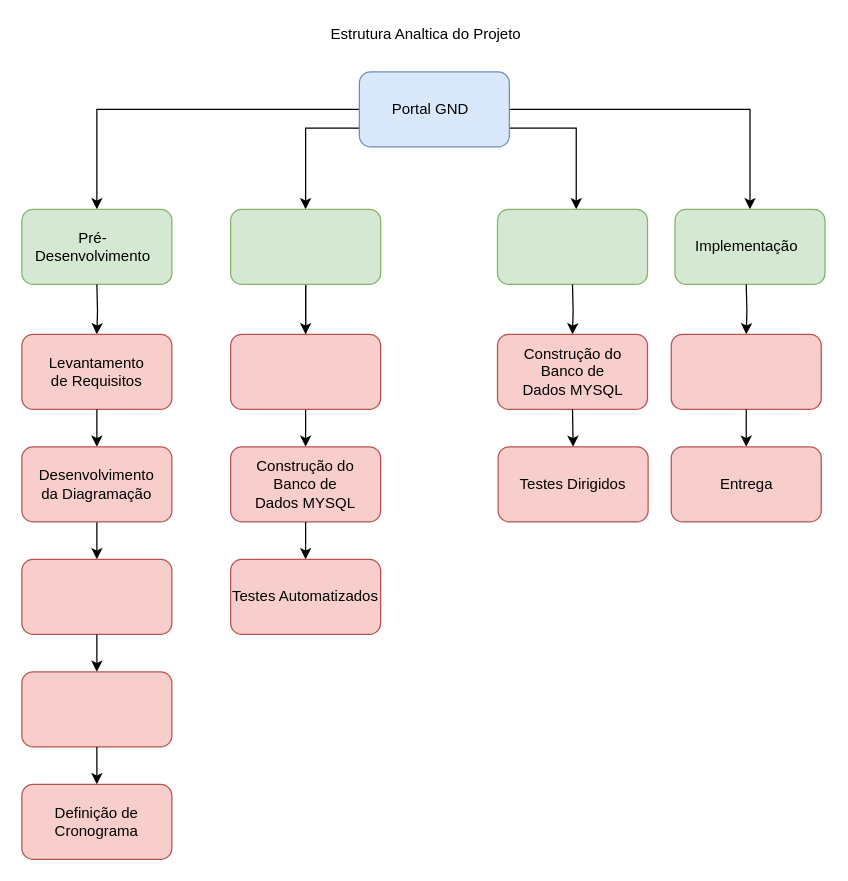
Image size: 848x881. Some labels were removed from this diagram. The centre of each missing label's shape, as x and y in pixels:
"Codificação em JAVAWEB" belongs at point 305,371.
"Definição de Atividades" belongs at point 96,596.
"Definição de Ferramentas" belongs at point 96,709.
"Desenvolvimento" belongs at point 305,246.
"Desenvolvimento do Manual de Uso" belongs at point 745,371.
"Testes" belongs at point 572,246.
